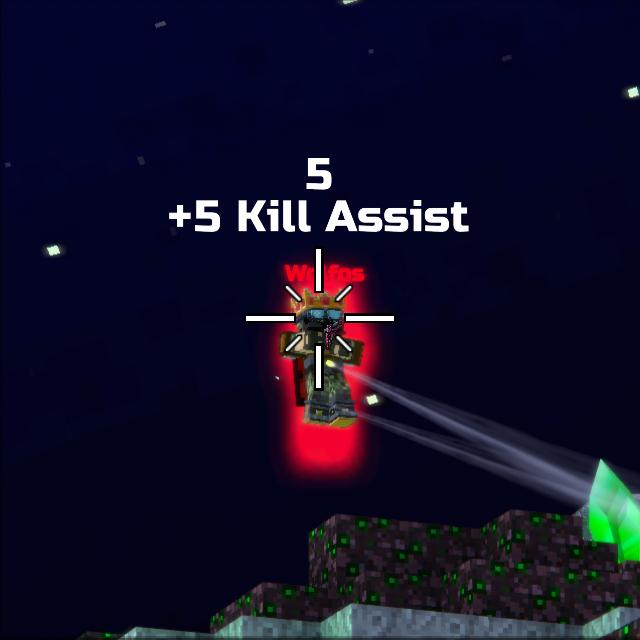Enemy: (278, 297, 365, 428)
